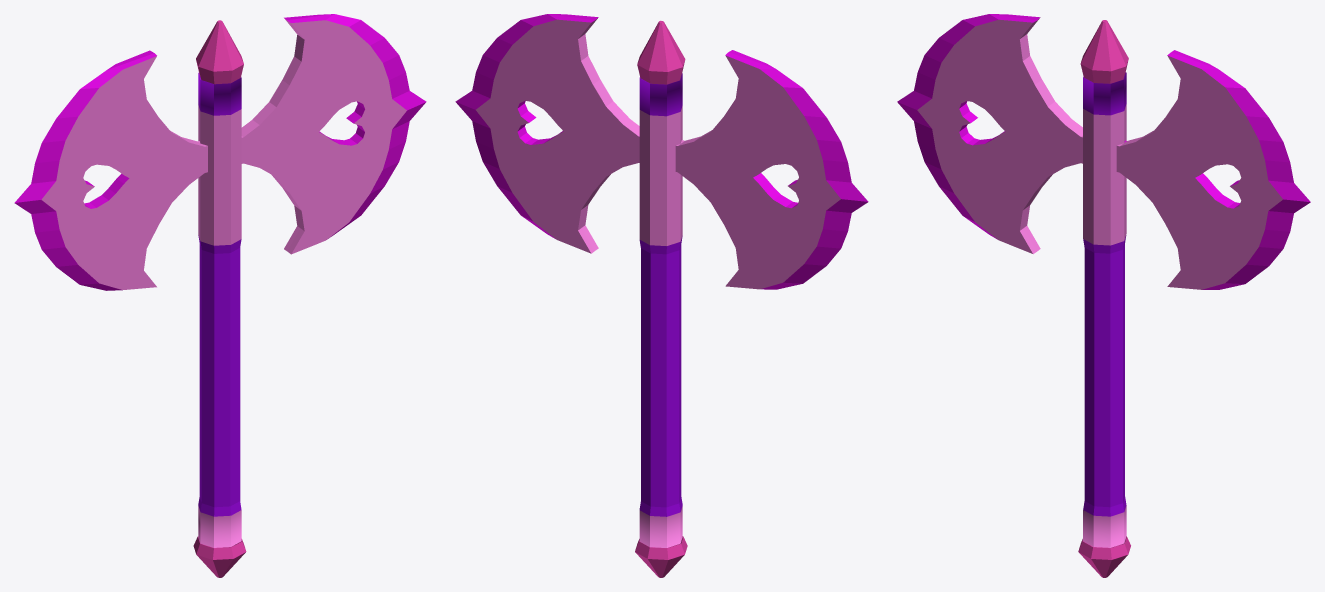
Rendered from Hacha Blendervs3.fbx.
The picture shows the model from 3 angles, left to right: view 1: azimuth 30°, elevation 25°; view 2: azimuth 150°, elevation 25°; view 3: azimuth 330°, elevation 25°; orthographic projection.
Visible parts, largest first — view 1: Hacha.003; view 2: Hacha.003; view 3: Hacha.003.
Part boxes in pixels (x1,y1,x2,y2): Hacha.003: (14,14,426,577); Hacha.003: (455,14,868,577); Hacha.003: (897,14,1310,577).
Bounding box in the file's own units: 1740 × 200 × 2236.
